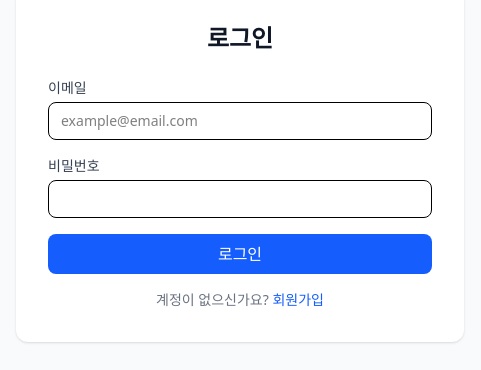
Test case: LoginPage › 비밀번호가 비어있으면 에러 메시지를 표시한다
In the field labelled "이메일": (240, 121) [48,102,432,140], type "test@example.com"
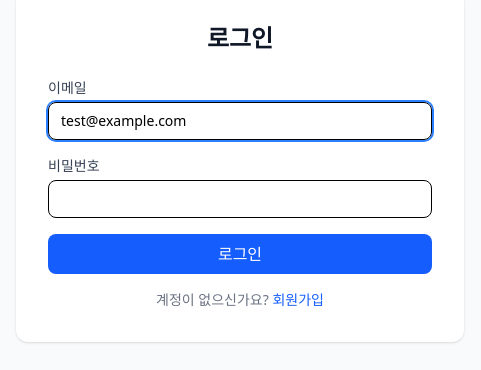
Click the button "로그인": (240, 254) [48,234,432,274]
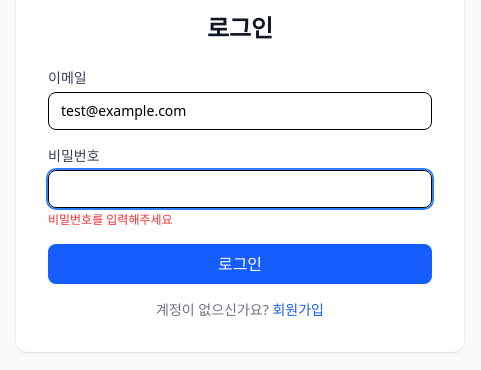
Now the text "비밀번호를 입력해주세요" is shown, box [48,211,173,228]
